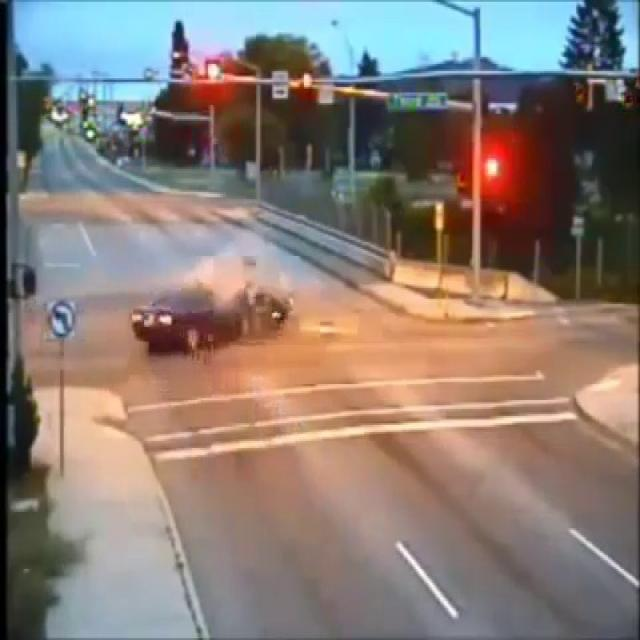accident: (130, 256, 298, 357)
